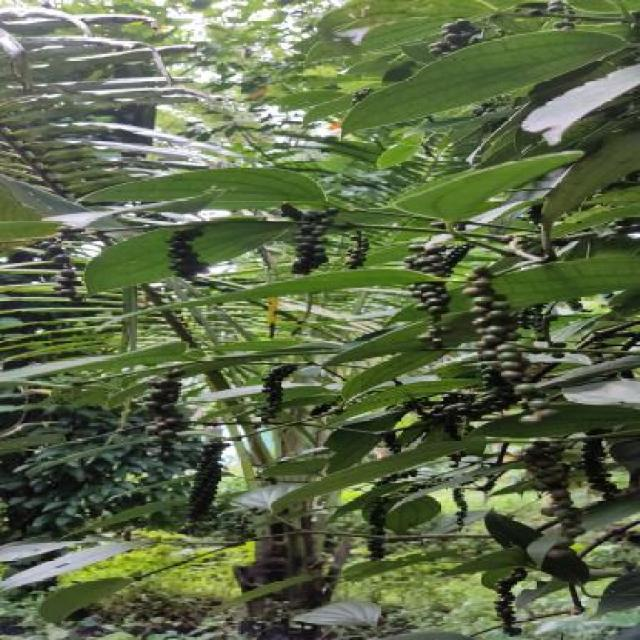UNRIPE: (470, 266, 568, 422), (515, 441, 583, 559), (400, 242, 466, 346), (35, 225, 83, 299), (148, 370, 187, 452), (290, 210, 333, 273), (490, 565, 528, 633), (189, 443, 220, 523), (581, 439, 621, 499), (162, 225, 209, 276), (256, 364, 290, 424), (359, 500, 390, 558), (428, 395, 470, 437), (425, 18, 473, 52), (342, 233, 370, 267), (448, 491, 471, 529)
